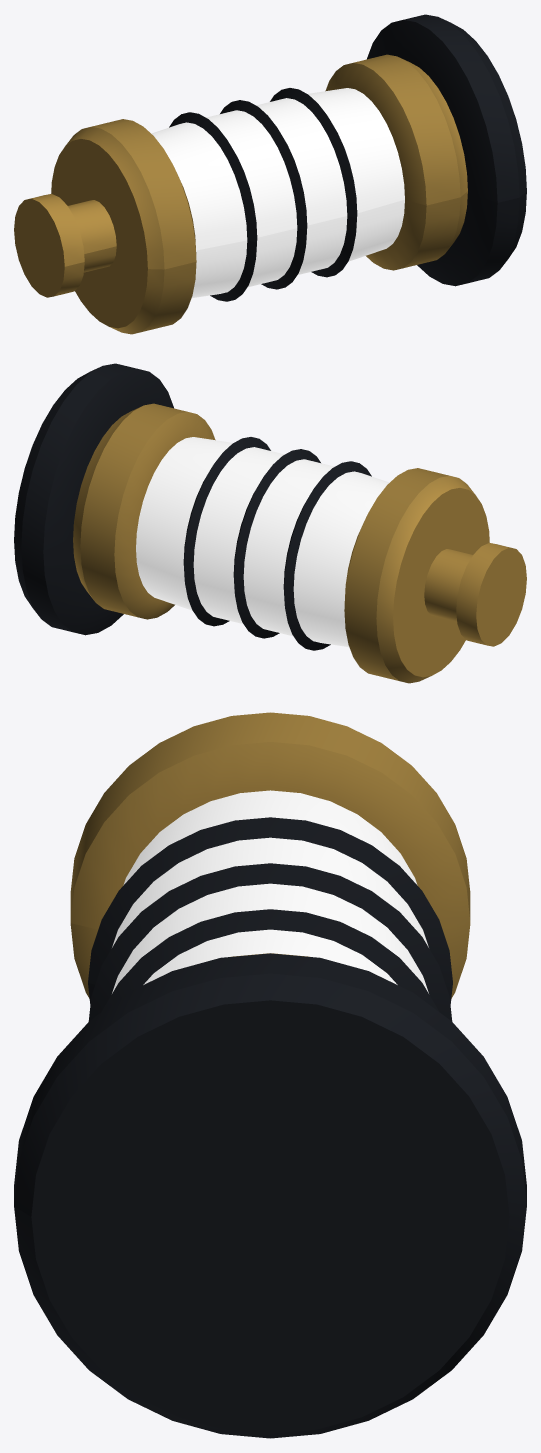
The model's file is meleemod_infusion_volt.glb.
3 renders of one model, top to bottom at view 1: azimuth 30°, elevation 25°; view 2: azimuth 150°, elevation 25°; view 3: azimuth 270°, elevation 25°, orthographic. The views are drawn at different scales.
Parts seen in each view (by area): view 1: meleemod_infusion_volt_glass, meleemod_infusion_volt_ring_b, meleemod_infusion_volt_saddle, meleemod_infusion_volt_ring_a, meleemod_infusion_volt_valve, meleemod_infusion_volt_rib2, meleemod_infusion_volt_rib1, meleemod_infusion_volt_rib0; view 2: meleemod_infusion_volt_glass, meleemod_infusion_volt_ring_b, meleemod_infusion_volt_saddle, meleemod_infusion_volt_ring_a, meleemod_infusion_volt_valve, meleemod_infusion_volt_rib2, meleemod_infusion_volt_rib1, meleemod_infusion_volt_rib0; view 3: meleemod_infusion_volt_saddle, meleemod_infusion_volt_ring_b, meleemod_infusion_volt_glass, meleemod_infusion_volt_rib2, meleemod_infusion_volt_rib1, meleemod_infusion_volt_rib0.
Boxes of the visible parts, left/top/right/bottom form: meleemod_infusion_volt_glass: left=151, top=88, right=404, bottom=298; meleemod_infusion_volt_ring_b: left=51, top=119, right=196, bottom=334; meleemod_infusion_volt_saddle: left=367, top=14, right=526, bottom=286; meleemod_infusion_volt_ring_a: left=325, top=54, right=467, bottom=270; meleemod_infusion_volt_valve: left=14, top=194, right=116, bottom=297; meleemod_infusion_volt_rib2: left=169, top=112, right=257, bottom=301; meleemod_infusion_volt_rib1: left=220, top=100, right=307, bottom=289; meleemod_infusion_volt_rib0: left=270, top=88, right=357, bottom=277; meleemod_infusion_volt_glass: left=136, top=437, right=389, bottom=647; meleemod_infusion_volt_ring_b: left=344, top=468, right=489, bottom=683; meleemod_infusion_volt_saddle: left=14, top=363, right=173, bottom=635; meleemod_infusion_volt_ring_a: left=73, top=403, right=215, bottom=619; meleemod_infusion_volt_valve: left=424, top=543, right=526, bottom=646; meleemod_infusion_volt_rib2: left=283, top=461, right=371, bottom=650; meleemod_infusion_volt_rib1: left=233, top=449, right=320, bottom=638; meleemod_infusion_volt_rib0: left=183, top=437, right=270, bottom=626; meleemod_infusion_volt_saddle: left=14, top=953, right=526, bottom=1438; meleemod_infusion_volt_ring_b: left=70, top=712, right=470, bottom=998; meleemod_infusion_volt_glass: left=112, top=790, right=428, bottom=993; meleemod_infusion_volt_rib2: left=88, top=817, right=452, bottom=1004; meleemod_infusion_volt_rib1: left=88, top=863, right=452, bottom=1021; meleemod_infusion_volt_rib0: left=101, top=909, right=439, bottom=1011.
Size of the model in its own units: 0.0424 by 0.0236 by 0.0236.
